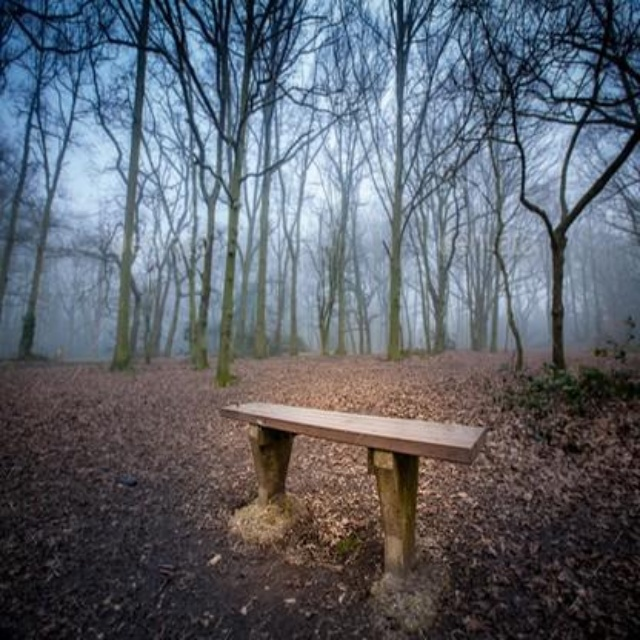obstacle: (205, 389, 495, 594)
